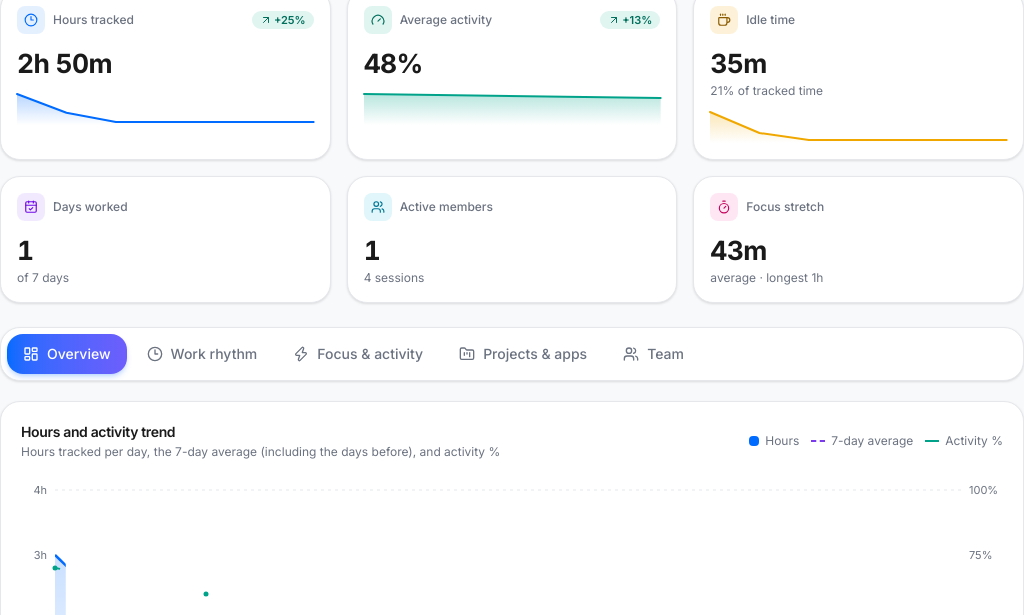
Test case: Work Analytics (live) › colours who-works-on-what by project, keeping members neutral
(page scrolled)
Click the tab "Projects & apps": (523, 354) [443,334,603,374]
(page scrolled)
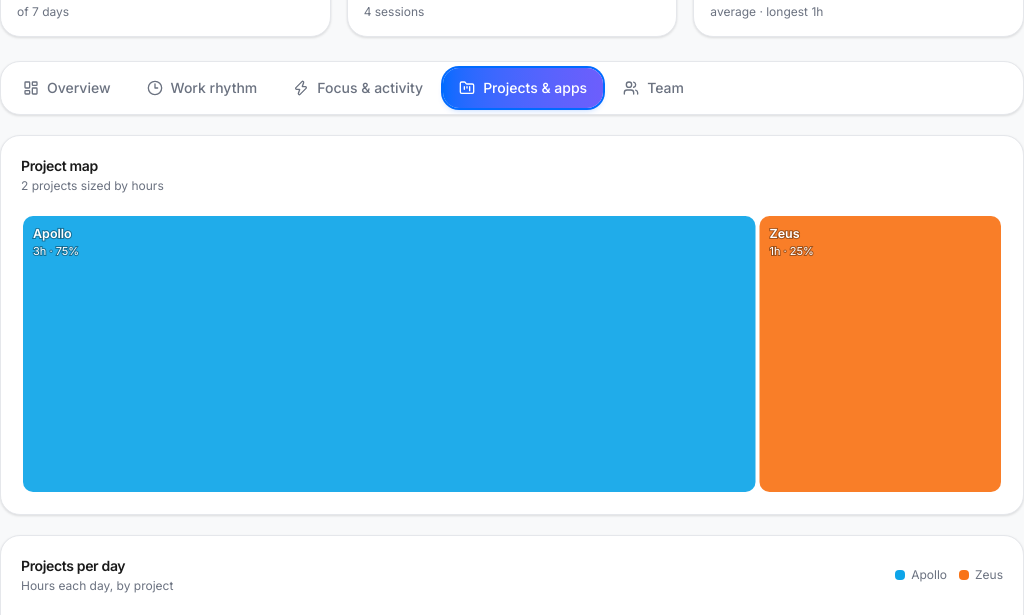
Expected: the picture named "Project map: Apollo 3h, Zeus 1h" is shown, [21,214,1003,494]
